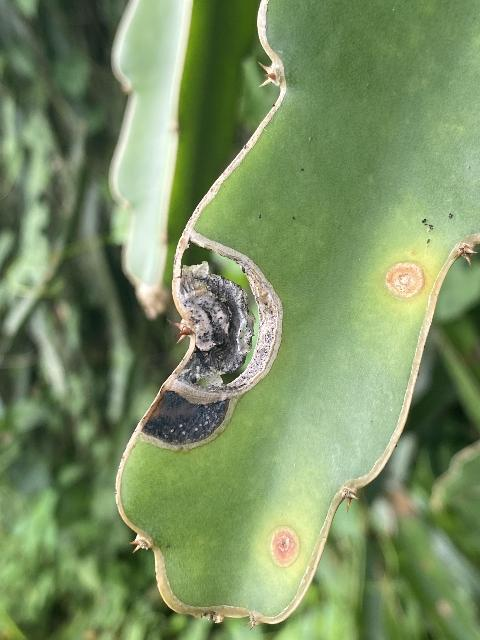stemcanker: (122, 240, 284, 456), (384, 260, 429, 299), (269, 528, 307, 569)
